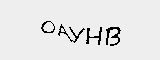А: (56, 23, 71, 44)
В: (103, 27, 122, 47)
Н: (83, 24, 104, 47)
О: (38, 18, 56, 35)
У: (69, 27, 84, 46)
